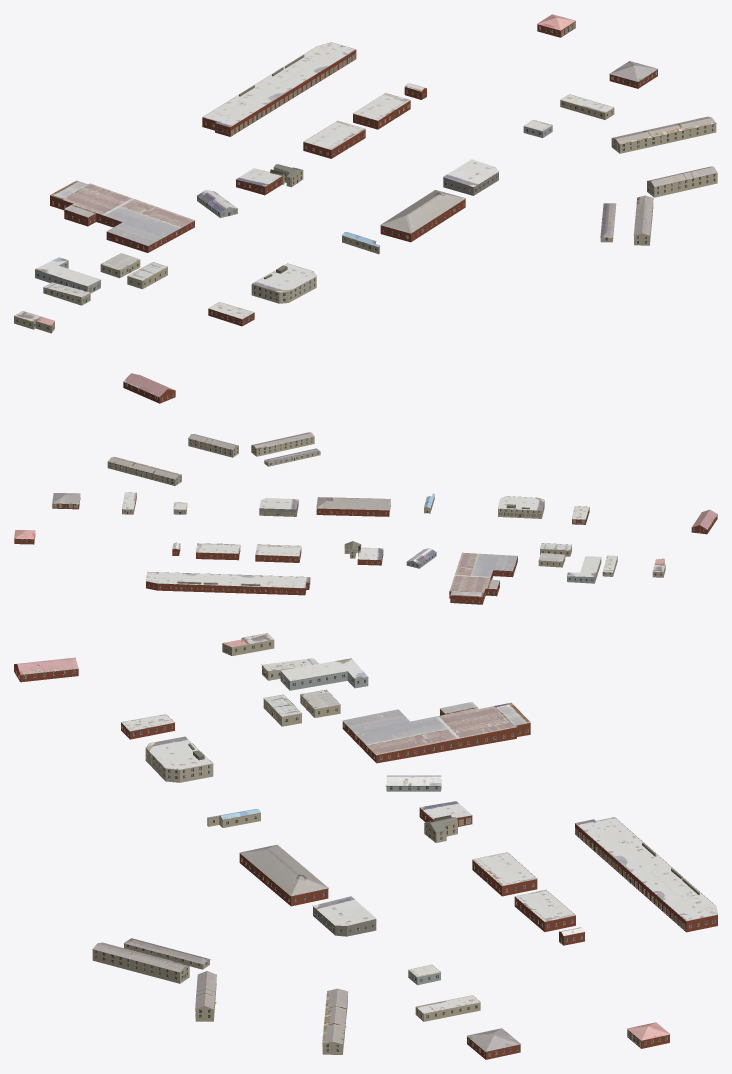
3 renders of one model, top to bottom at view 1: azimuth 30°, elevation 25°; view 2: azimuth 150°, elevation 25°; view 3: azimuth 270°, elevation 25°, orthographic. The views are drawn at different scales.
Visible parts, largest first — view 1: -7_0_270367462_1, -7_0_270473962_6, -7_0_270367463_2, -7_0_270367464_3; view 2: -7_0_270367462_1, -7_0_270473962_6, -7_0_270367463_2, -7_0_270367464_3; view 3: -7_0_270367462_1, -7_0_270473962_6, -7_0_270367464_3, -7_0_270367463_2, -7_0_305805017_70.
Part boxes in pixels (x1=…): -7_0_270367462_1: x1=14, y1=14, x2=717, y2=400; -7_0_270473962_6: x1=50, y1=21, x2=657, y2=403; -7_0_270367463_2: x1=43, y1=29, x2=568, y2=305; -7_0_270367464_3: x1=35, y1=125, x2=552, y2=293; -7_0_270367462_1: x1=14, y1=432, x2=717, y2=602; -7_0_270473962_6: x1=14, y1=498, x2=717, y2=604; -7_0_270367463_2: x1=64, y1=501, x2=617, y2=576; -7_0_270367464_3: x1=173, y1=504, x2=601, y2=583; -7_0_270367462_1: x1=14, y1=633, x2=717, y2=1056; -7_0_270473962_6: x1=14, y1=664, x2=717, y2=1059; -7_0_270367464_3: x1=280, y1=671, x2=441, y2=985; -7_0_270367463_2: x1=145, y1=666, x2=634, y2=1042; -7_0_305805017_70: x1=313, y1=907, x2=376, y2=936.
Size of the model in its own units: 503 by 18.02 by 360.
16 materials, 1 textured.
